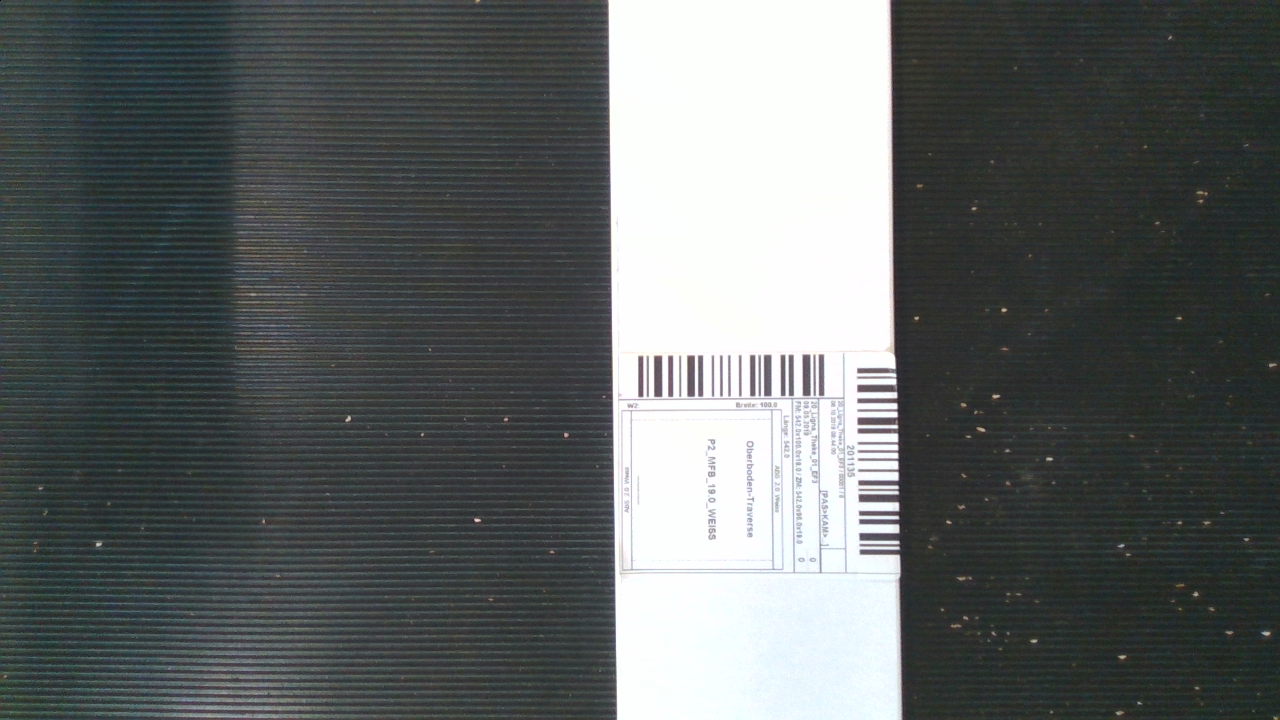barcode: (608, 339, 942, 603)
